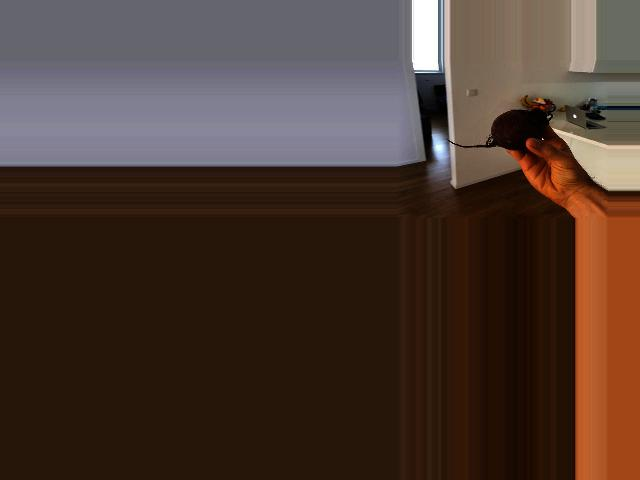beet: (446, 108, 551, 150)
